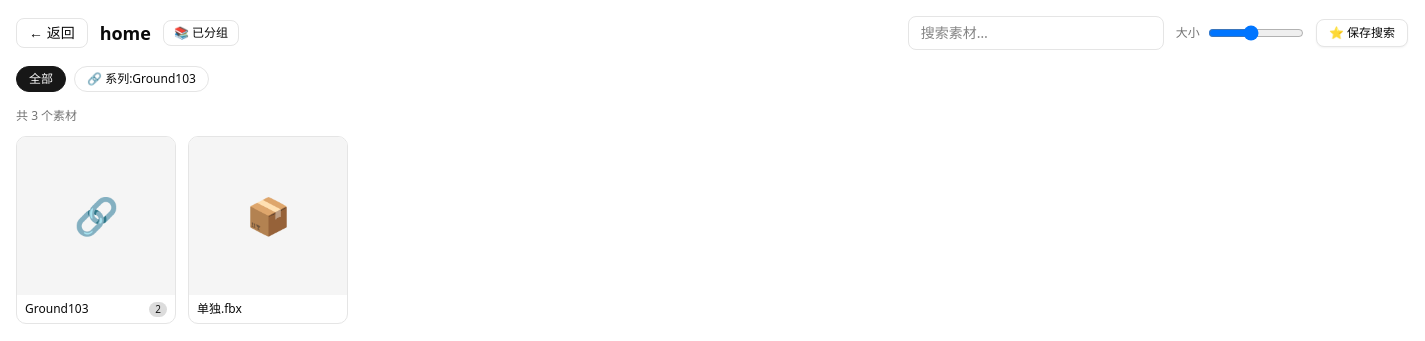
Scenario: 分组模式把同系列文件合并成一张组卡片（材质包整合显示）
Expected: the text "Ground103" is shown, [25, 301, 88, 317]
Expected: the text "2" is shown, [149, 302, 167, 316]
// 切成单文件模式：成员平铺显示
Step 1. Click the button "📚 已分组" → (201, 33), box [163, 20, 239, 46]
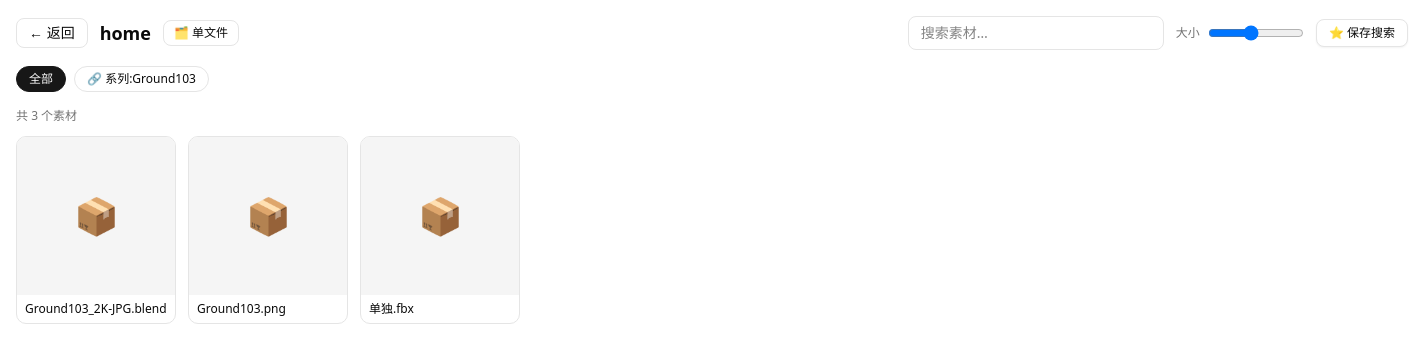
Result: the text "Ground103_2K-JPG.blend" is shown at [17, 295, 175, 323]
Result: the text "Ground103.png" is shown at [197, 300, 286, 317]
